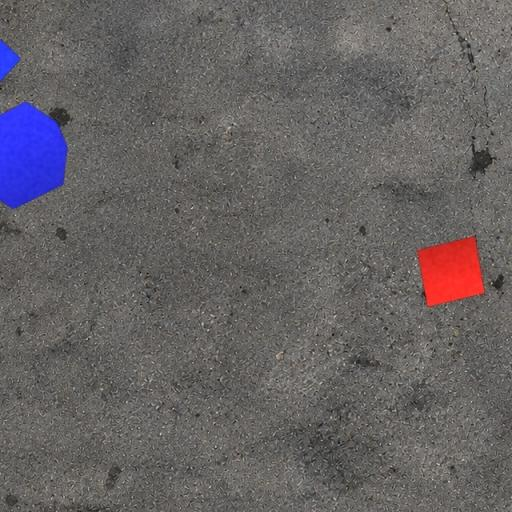RED_SQUARE: (416, 235, 486, 308)
